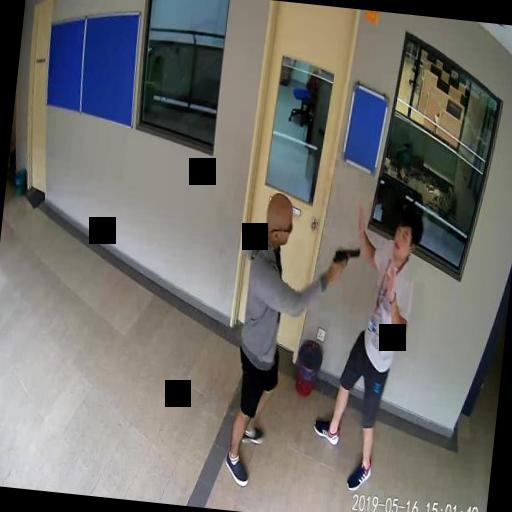Handgun: (330, 245, 360, 278)
